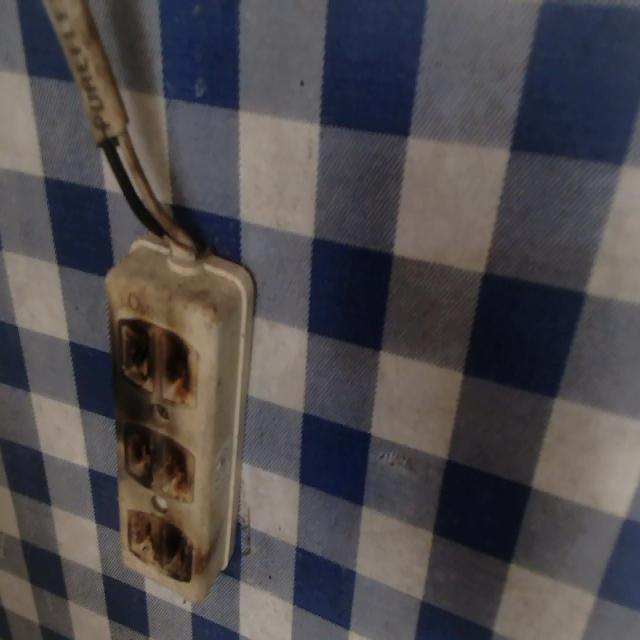-: (116, 312, 196, 404), (123, 414, 198, 502), (124, 508, 194, 583)
